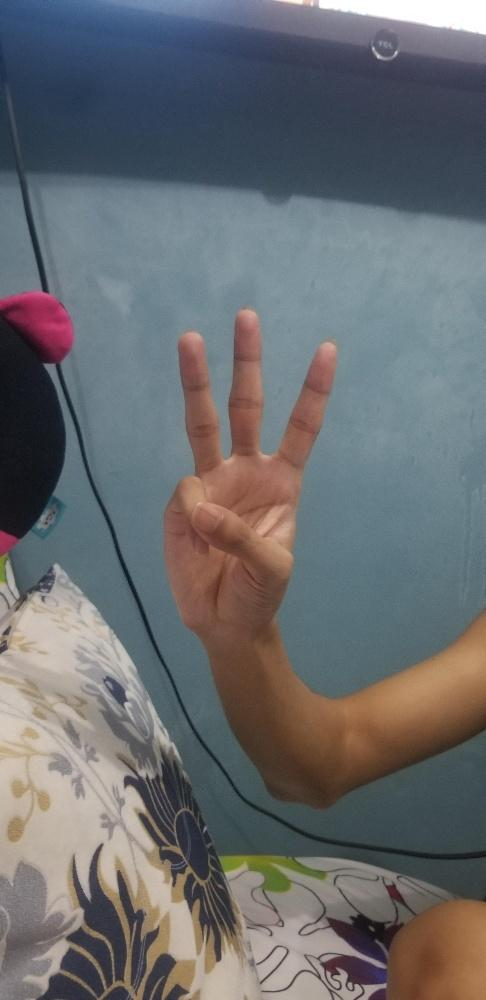w: (158, 302, 341, 633)
